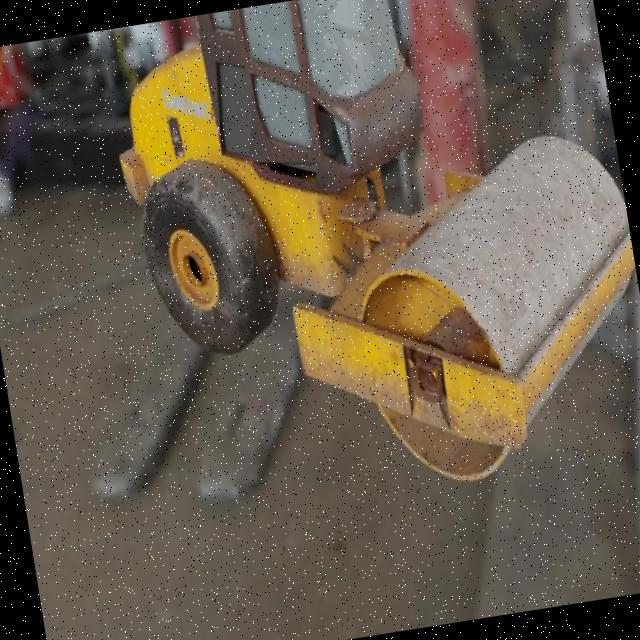Roller: (99, 0, 640, 528)
